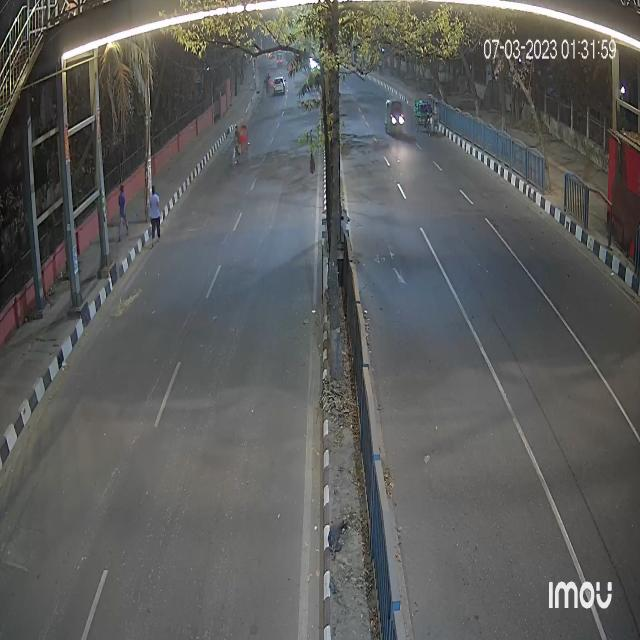cng: (384, 97, 407, 140)
rikshaw: (228, 120, 252, 172)
